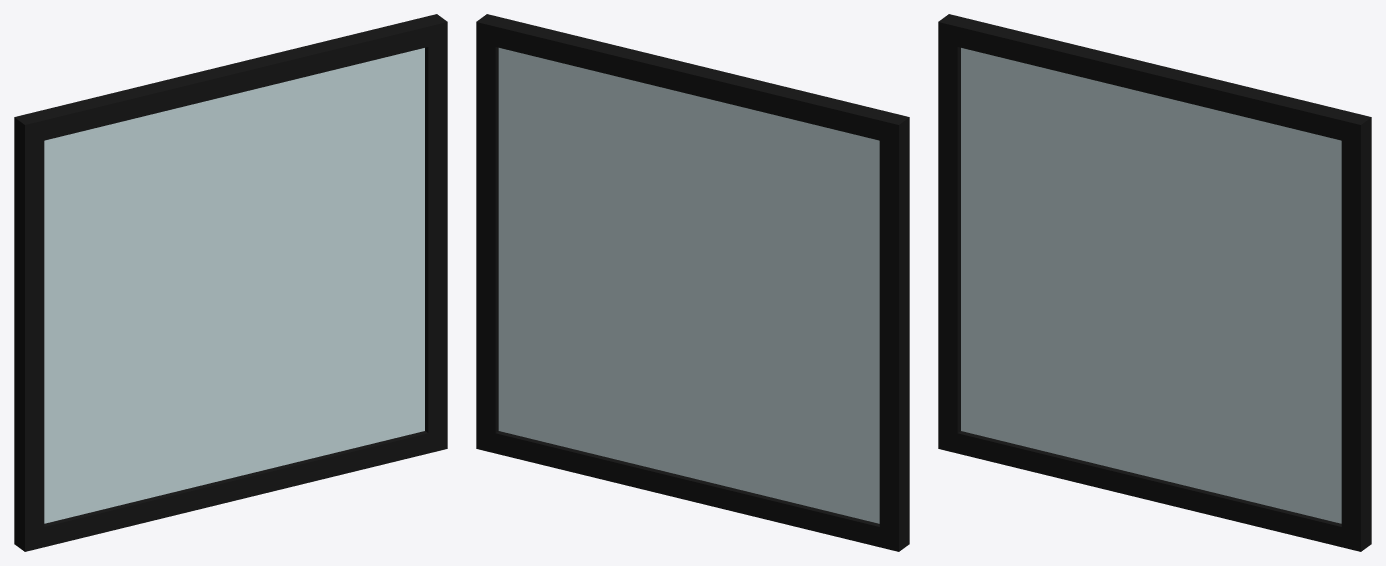
The model's file is Itr_Obj_Grandfatherclock2_Glass_Small_03.FBX.
The picture shows the model from 3 angles, left to right: view 1: azimuth 30°, elevation 25°; view 2: azimuth 150°, elevation 25°; view 3: azimuth 330°, elevation 25°; orthographic projection.
Visible parts, largest first — view 1: Itr_Obj_Grandfatherclock2_Glass_Small_03; view 2: Itr_Obj_Grandfatherclock2_Glass_Small_03; view 3: Itr_Obj_Grandfatherclock2_Glass_Small_03.
Part boxes in pixels (x1,y1,x2,y2): Itr_Obj_Grandfatherclock2_Glass_Small_03: (14,14,447,551); Itr_Obj_Grandfatherclock2_Glass_Small_03: (476,14,909,551); Itr_Obj_Grandfatherclock2_Glass_Small_03: (938,14,1371,551).
Bounding box in the file's own units: 15.68 × 15.13 × 0.694.
